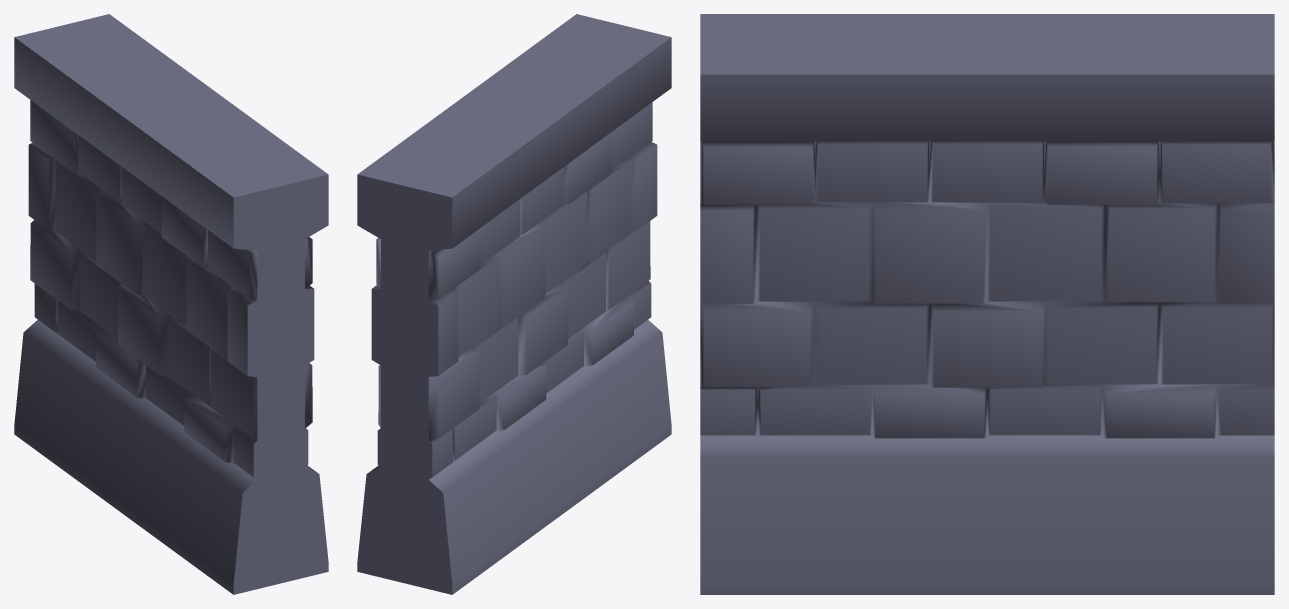
Rendered from wall_segment_fixed.fbx.
3 views of the same model, side by side, from view 1: azimuth 30°, elevation 25°; view 2: azimuth 150°, elevation 25°; view 3: azimuth 270°, elevation 25° (orthographic). The views are drawn at different scales.
Visible parts, largest first — view 1: Inner_wall_segement; view 2: Inner_wall_segement; view 3: Inner_wall_segement.
Part boxes in pixels (x1,y1,x2,y2): Inner_wall_segement: (14, 14, 328, 594); Inner_wall_segement: (357, 14, 671, 594); Inner_wall_segement: (700, 14, 1274, 594).
Size of the model in its own units: 64 by 256 by 256.
